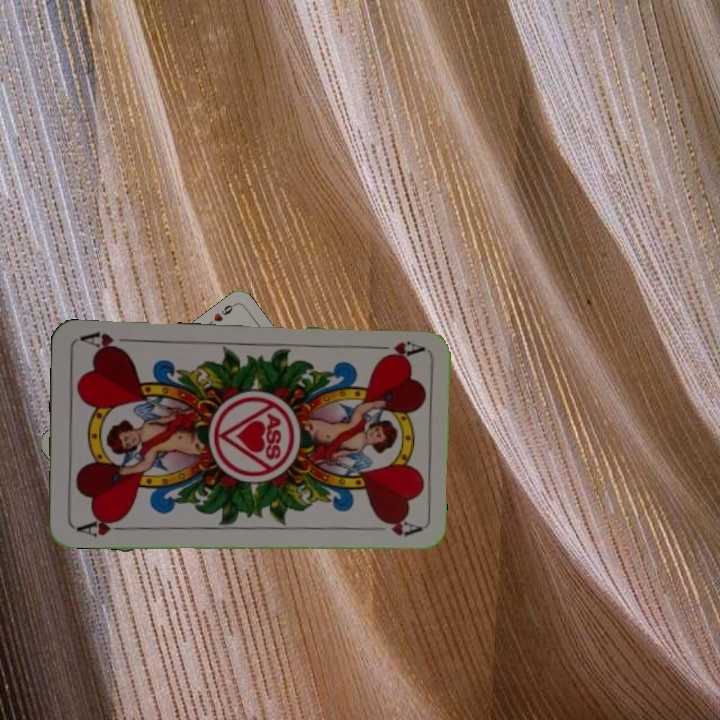H9: (202, 300, 238, 329)
HA: (73, 513, 130, 540), (366, 337, 425, 363)
